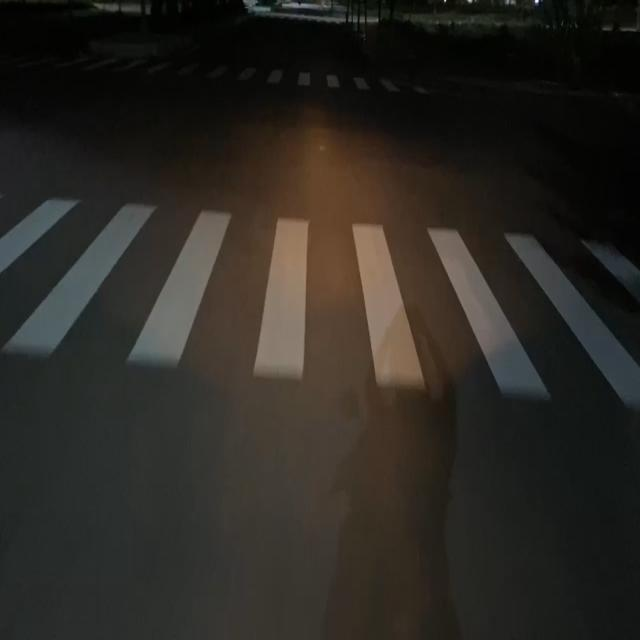walk-crossing: (0, 188, 640, 410), (69, 54, 428, 97)
